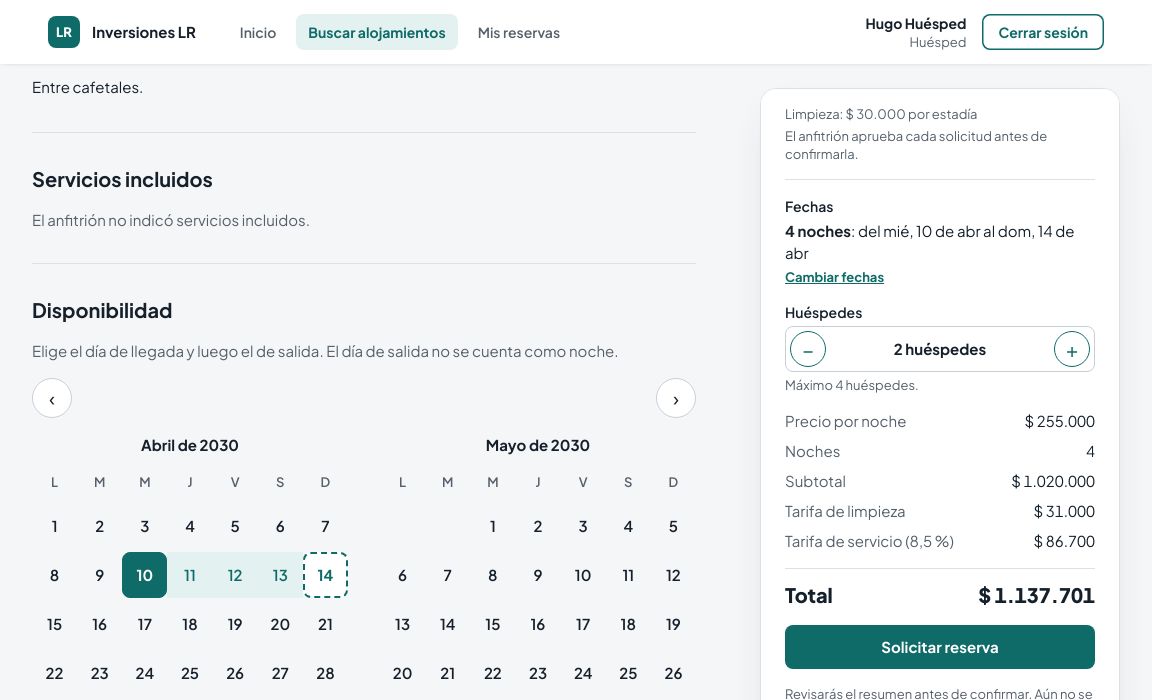
Reservar › reserva correcta › CON_APROBACION: queda esperando al anfitrión y se explica que debe aceptarla antes de pagar
This screenshot has width=1152, height=700.
(page scrolled)
Expected: the element named "Desglose del precio" is shown, [785,410,1095,609]
Click the button "Solicitar reserva": (940, 647) [785,625,1095,669]
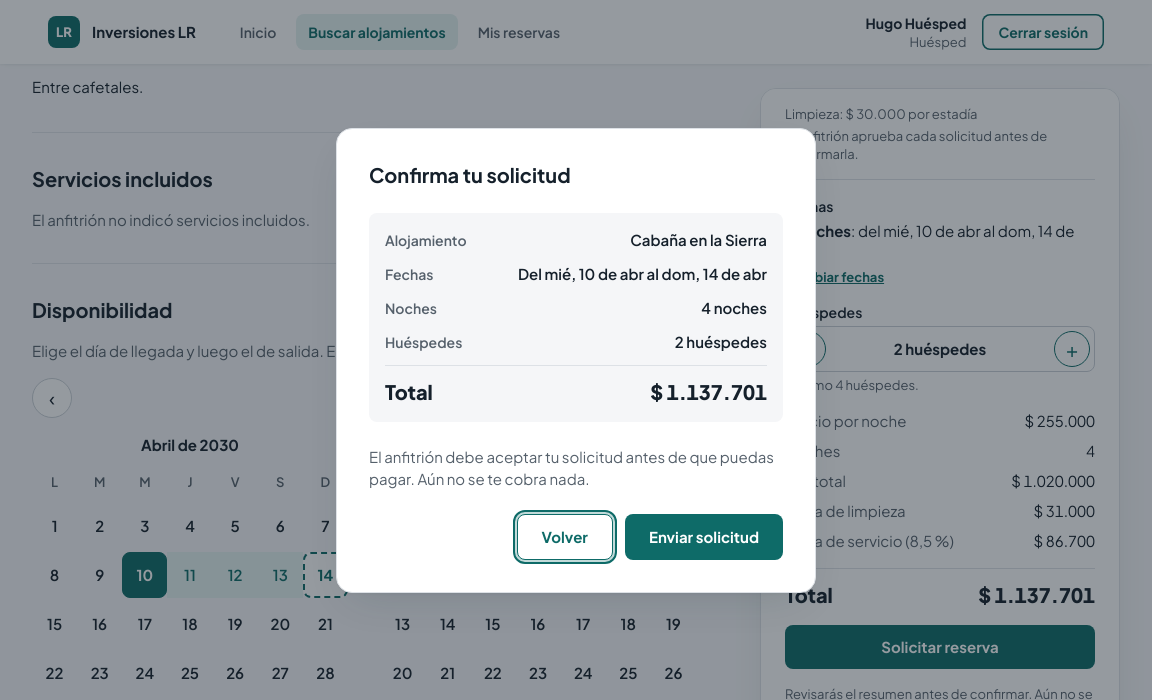
Now the dialog shows "El anfitrión debe aceptar tu solicitud antes de que puedas pagar.", box [369,446,774,488]
Click the button "Enviar solicitud": (704, 536) [625,514,783,560]
(page scrolled)
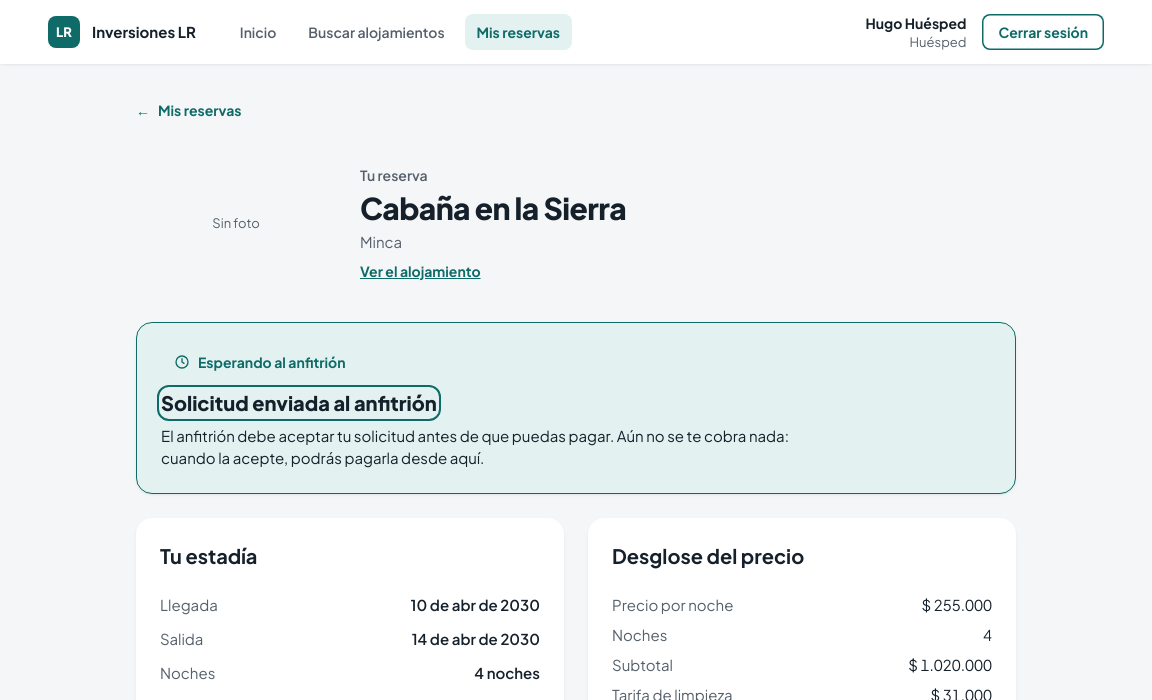
Now the text "Esperando al anfitrión" is shown, box [161,347,358,377]
Now the text "debe aceptar tu solicitud antes de que puedas pagar" is shown, box [161,426,789,467]
